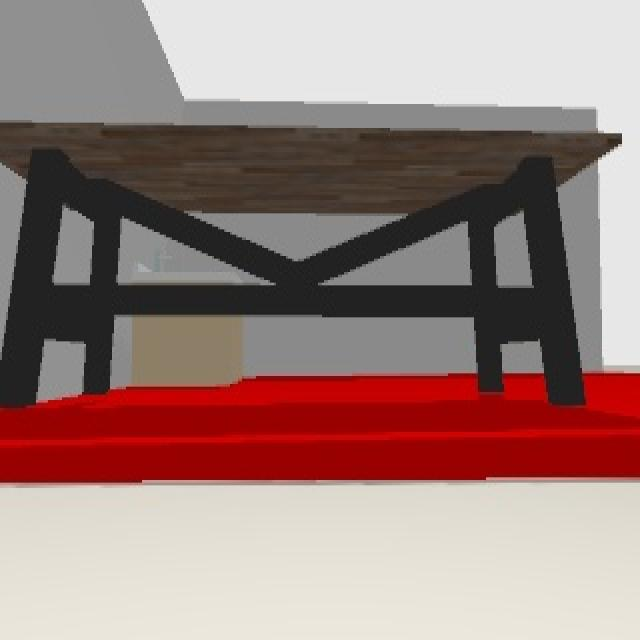dining: (0, 119, 622, 400)
